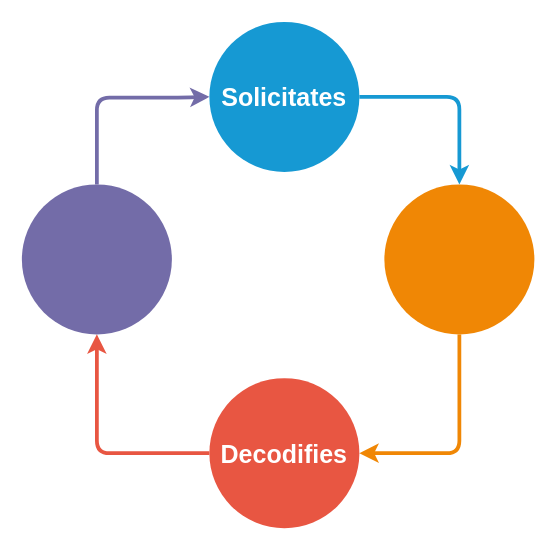
Image size: 555x549. Some labels were removed from this diagram. Each missing label, with the centre of its shape:
Receives: the point at 459,259
Shows: the point at 96,259
